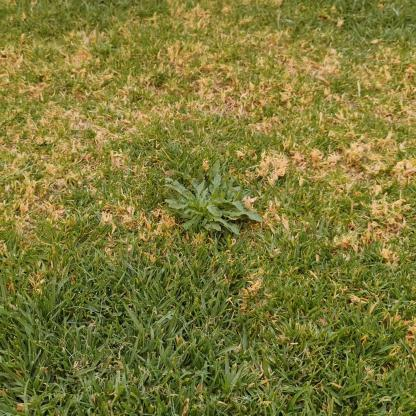Weeds: (165, 160, 265, 241)
